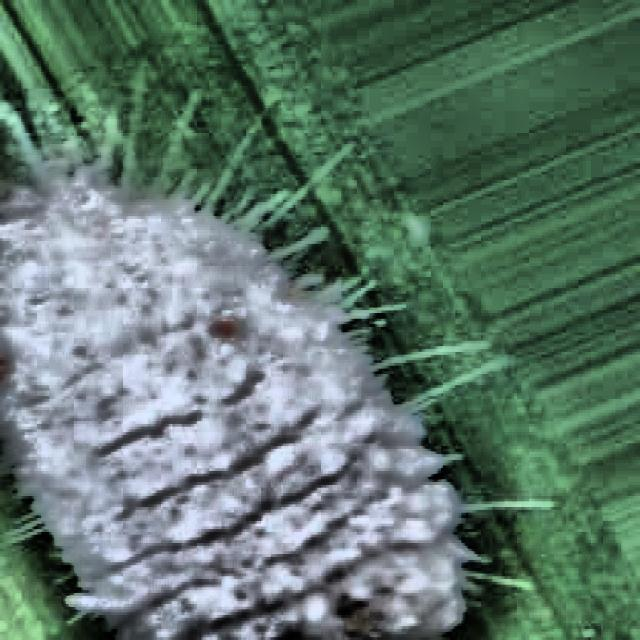Mealy-bug: (2, 101, 540, 639)
